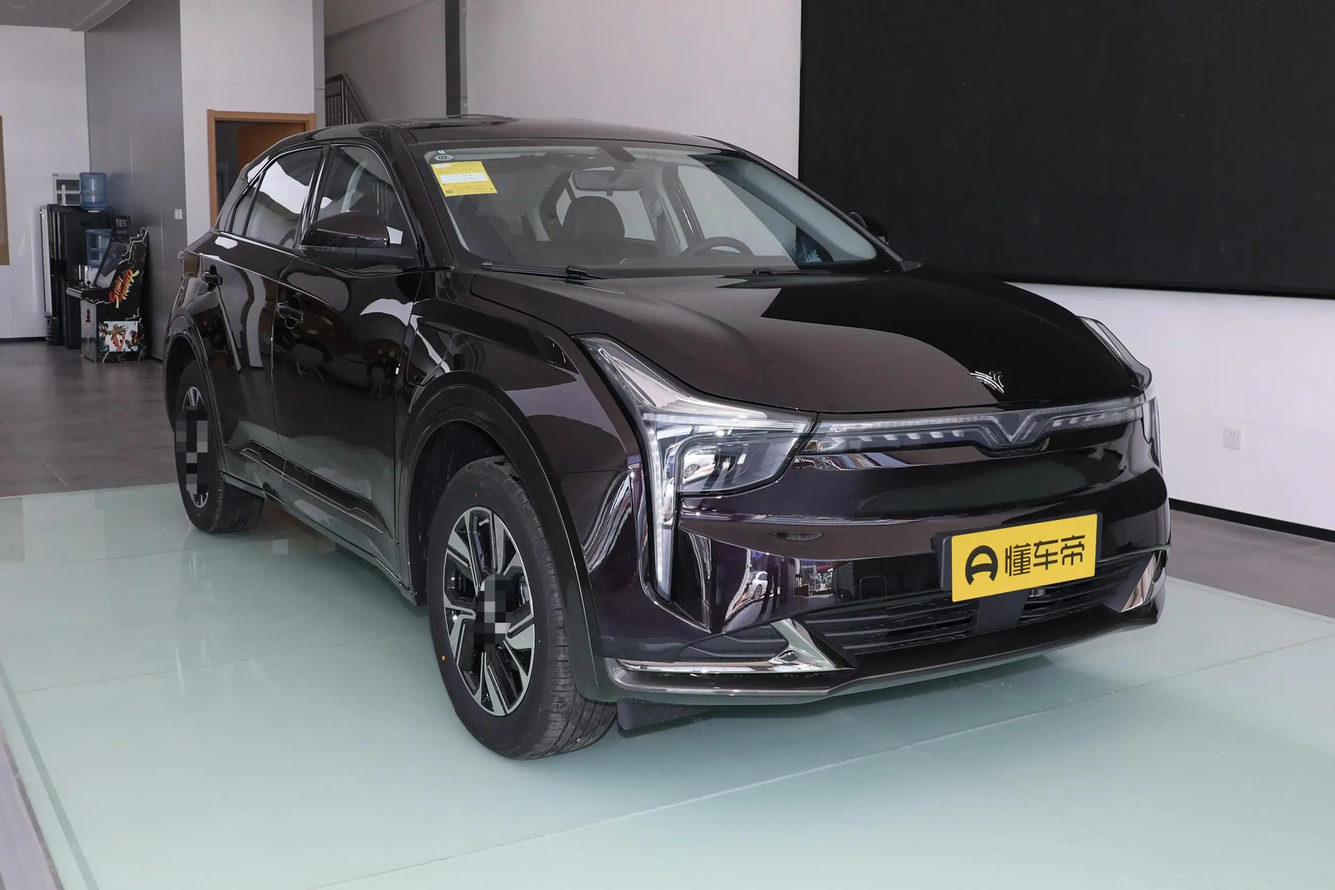NETA: (968, 368, 1006, 394)
